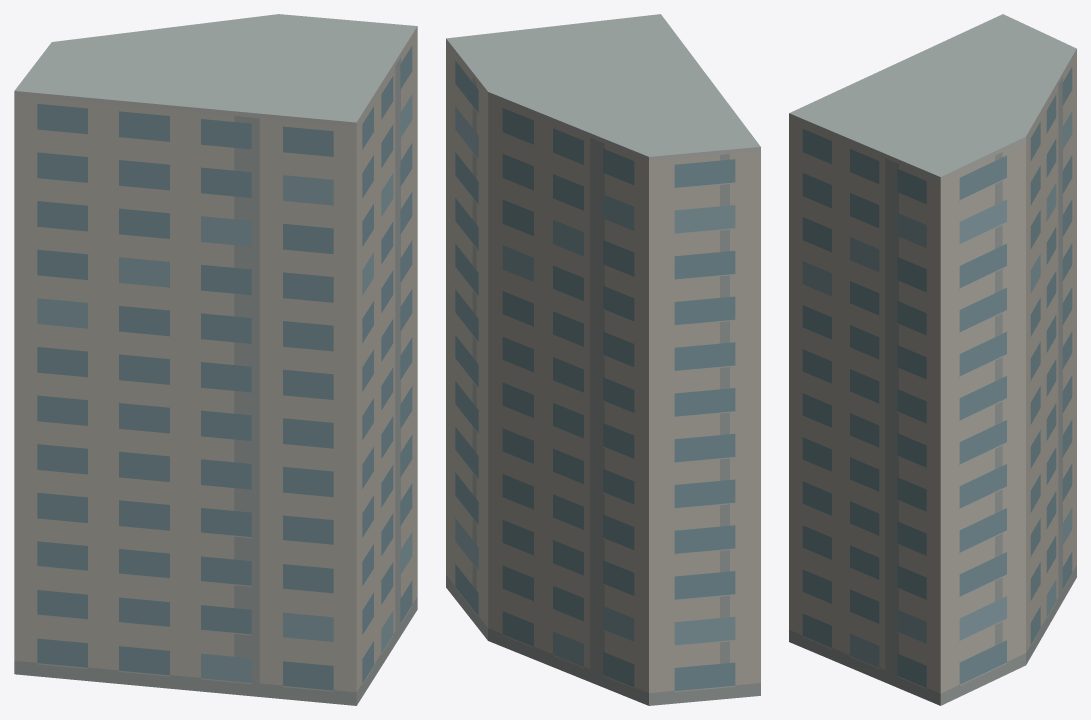
Rendered from residential-fd7315d1-0d7b-4621-aff4-405a25b957bc.glb.
3 views of the same model, side by side, from view 1: azimuth 30°, elevation 25°; view 2: azimuth 150°, elevation 25°; view 3: azimuth 270°, elevation 25° (orthographic). The views are drawn at different scales.
Parts seen in each view (by area): view 1: residential-fd7315d1-0d7b-4621-aff4-405a25b957bc.tmp; view 2: residential-fd7315d1-0d7b-4621-aff4-405a25b957bc.tmp; view 3: residential-fd7315d1-0d7b-4621-aff4-405a25b957bc.tmp.
Part boxes in pixels (<box>): residential-fd7315d1-0d7b-4621-aff4-405a25b957bc.tmp: <box>14,14,417,705</box>; residential-fd7315d1-0d7b-4621-aff4-405a25b957bc.tmp: <box>446,14,760,705</box>; residential-fd7315d1-0d7b-4621-aff4-405a25b957bc.tmp: <box>789,14,1076,705</box>.
Bounding box in the file's own units: 19.86 × 30 × 14.8.
